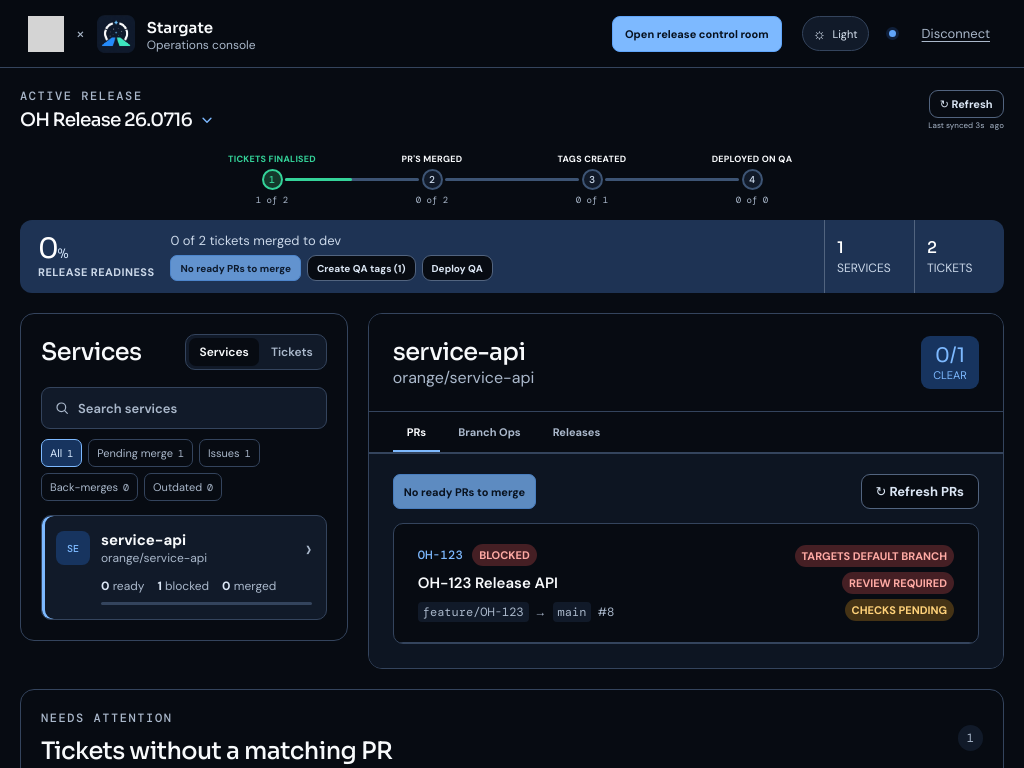
ReleaseOverview › searches the service list by repository name
Type "missing" into the search field labelled "Search services" at [196, 408], box [78,388,314,428]
(page scrolled)
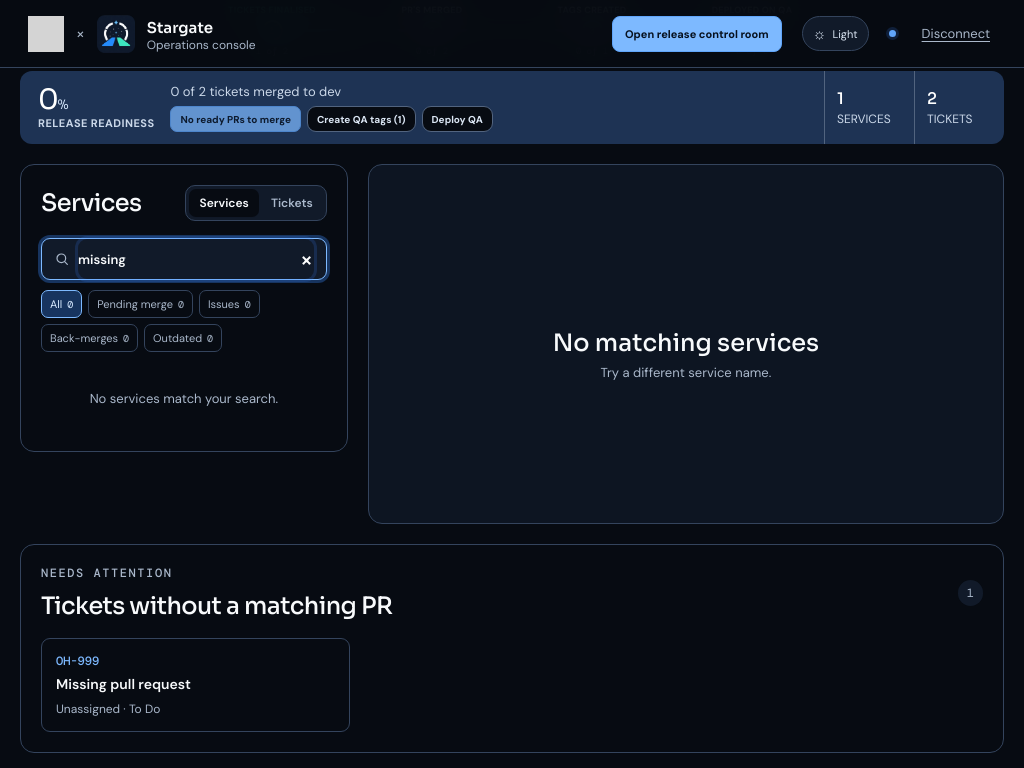
Expected: the text "No services match your search." is shown, [90,390,278,407]
Expected: the heading "No matching services" is shown, [553,328,819,358]
